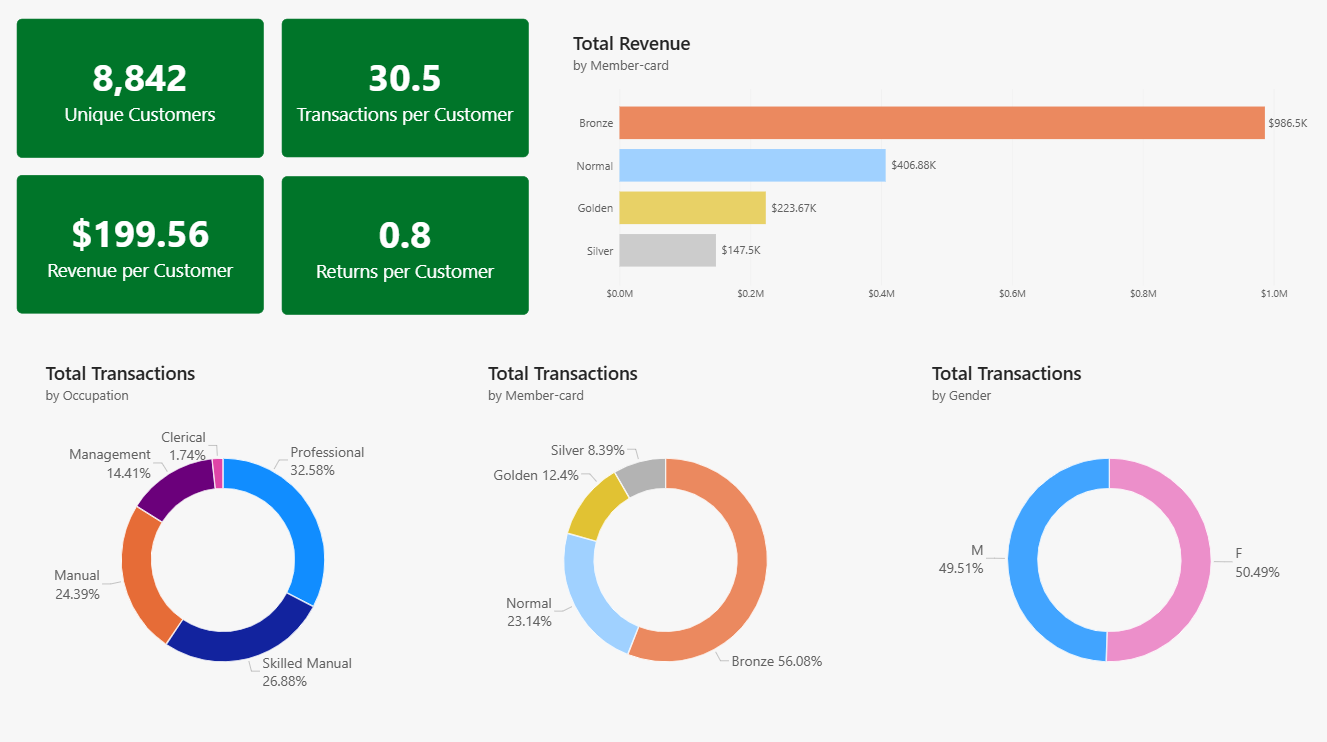

The page's visual inventory and layout, read from the dashboard file:
{"tool":"powerbi","page":{"name":"Customer Detail","canvas":[1920,1080],"ordinal":2},"visuals":[{"type":"card","title":"Revenue","fields":{"Values":["Measure.Total Customers"]},"box":[27.6,27.1,355,200],"z":0},{"type":"card","title":"Revenue","fields":{"Values":["Measure.Transactions per Customer"]},"box":[408.6,27.6,354.9,199.1],"z":1000},{"type":"card","title":"Revenue","fields":{"Values":["Measure.Revenue per Customer"]},"box":[27.6,251.9,355,199],"z":2000},{"type":"card","title":"Revenue","fields":{"Values":["Measure.Returns per Customer"]},"box":[408.6,252.6,354.9,199.1],"z":3000},{"type":"barChart","fields":{"Category":["Customers.member_card"],"Y":["Measure.Total Revenue"]},"box":[811.6,28.1,1108,424.2],"z":4000},{"type":"donutChart","fields":{"Category":["Customers.occupation"],"Y":["Measure.Total Transactions"]},"box":[51.9,504.2,543,528.1],"z":5000},{"type":"donutChart","fields":{"Category":["Customers.member_card"],"Y":["Measure.Total Transactions"]},"box":[689.3,504.2,543.2,528.1],"z":6000},{"type":"donutChart","fields":{"Category":["Customers.gender"],"Y":["Measure.Total Transactions"]},"box":[1326.6,504.2,543.2,528.1],"z":7000}]}

Visuals, with their boxes in screenshot pixels (x1, y1, x2, y2), scaled from the page's 1920x1080 canvas onto the 1327x742 screenshot:
"Revenue" card: select_region(19, 19, 264, 156)
"Revenue" card: select_region(282, 19, 528, 156)
"Revenue" card: select_region(19, 173, 264, 310)
"Revenue" card: select_region(282, 174, 528, 310)
barChart - Customers.member_card x Measure.Total Revenue: select_region(561, 19, 1326, 311)
donutChart - Customers.occupation x Measure.Total Transactions: select_region(36, 346, 411, 709)
donutChart - Customers.member_card x Measure.Total Transactions: select_region(476, 346, 852, 709)
donutChart - Customers.gender x Measure.Total Transactions: select_region(917, 346, 1292, 709)
